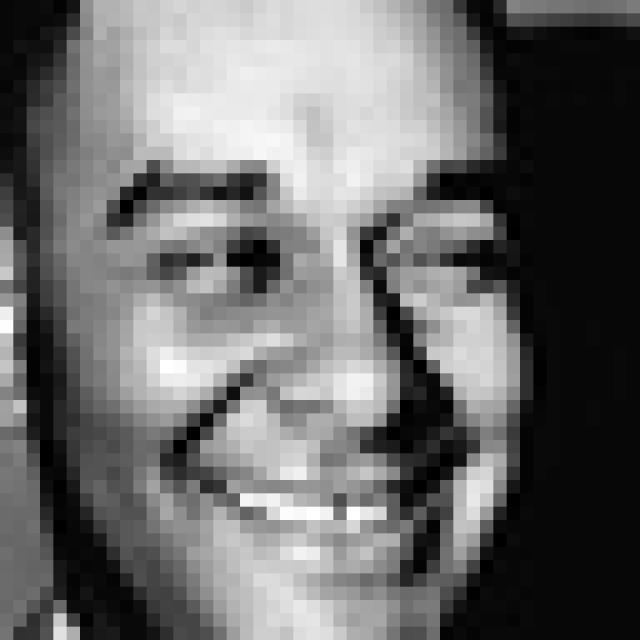happy: (107, 154, 506, 592)
